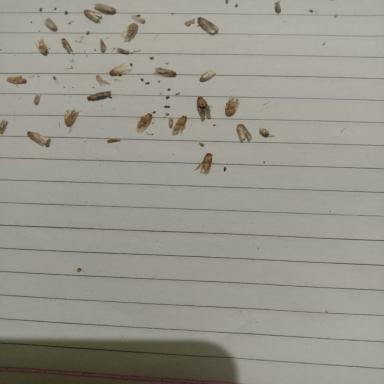pbw: (195, 95, 212, 122), (194, 152, 212, 176), (118, 22, 138, 43), (196, 17, 219, 35), (26, 131, 51, 147), (170, 114, 188, 136), (135, 112, 152, 134), (108, 62, 132, 76), (224, 96, 240, 116), (236, 123, 252, 143), (86, 90, 112, 101), (83, 9, 103, 23), (93, 3, 116, 15), (64, 108, 79, 126), (34, 38, 48, 56), (152, 67, 177, 77), (198, 69, 216, 82), (60, 38, 74, 54), (5, 75, 26, 85), (114, 46, 140, 54), (44, 17, 57, 32), (98, 38, 106, 53), (0, 118, 8, 133), (33, 94, 41, 106)
